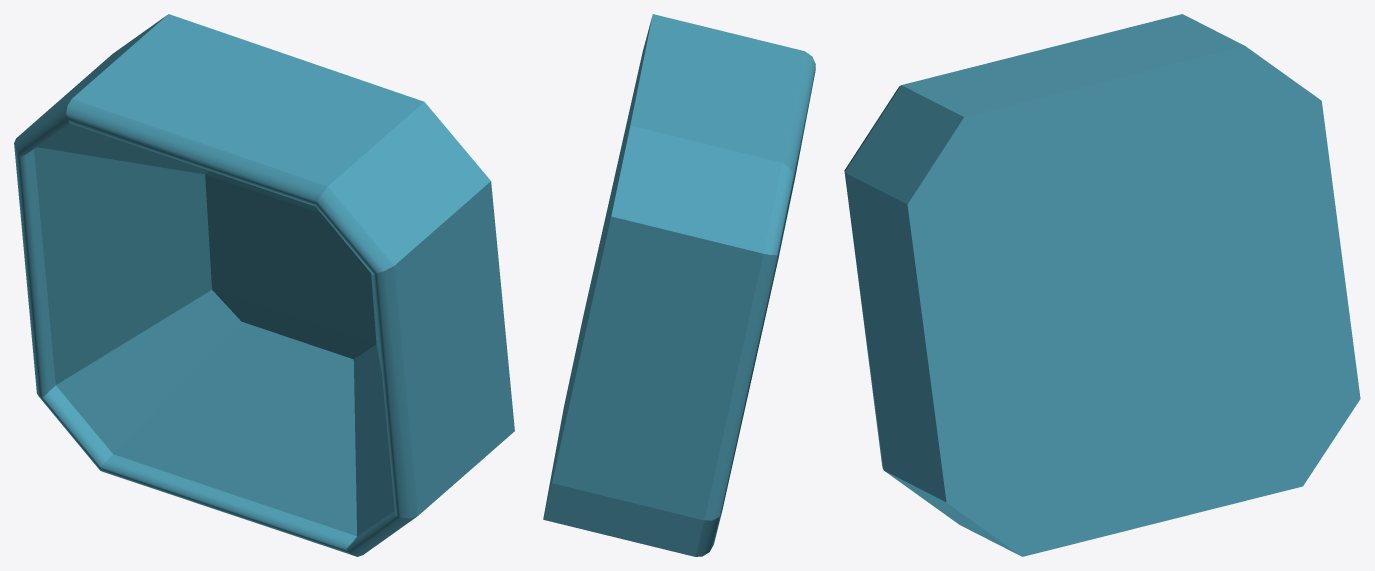
File: TL4_8shapes_Square_Classic_Metal.001 3.glb
3 views of the same model, side by side, from view 1: azimuth 30°, elevation 25°; view 2: azimuth 150°, elevation 25°; view 3: azimuth 270°, elevation 25° (orthographic). The views are drawn at different scales.
Parts seen in each view (by area): view 1: TL4_8shapes_Square_Classic_Metal.001; view 2: TL4_8shapes_Square_Classic_Metal.001; view 3: TL4_8shapes_Square_Classic_Metal.001.
Boxes of the visible parts, x1,y1,x2,y2 form: TL4_8shapes_Square_Classic_Metal.001: [14, 14, 514, 556]; TL4_8shapes_Square_Classic_Metal.001: [543, 14, 815, 556]; TL4_8shapes_Square_Classic_Metal.001: [844, 14, 1360, 556].
Bounding box in the file's own units: 0.4368 × 0.5357 × 0.5529.
